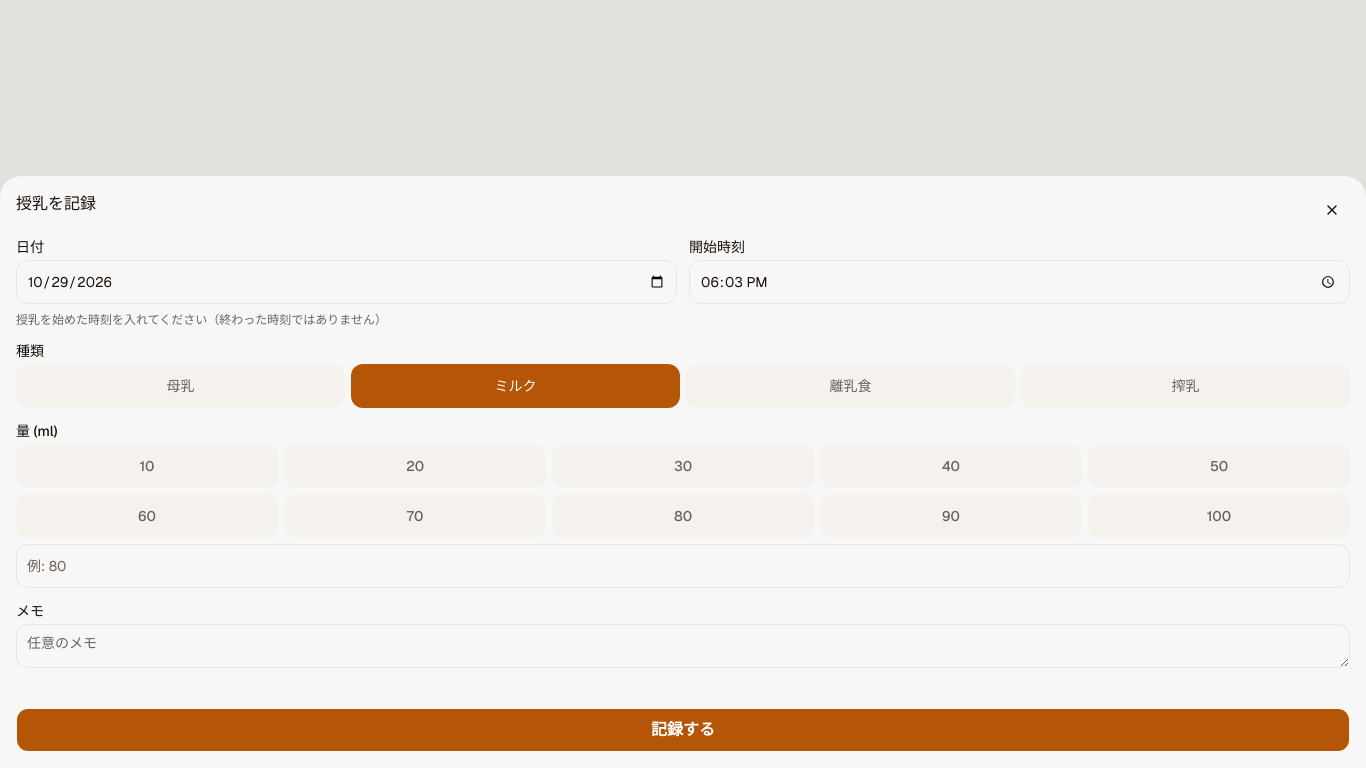
it: 記録シート: 結果不明の控えが在る間は、黙って新しい id で送らぬ（F2） › 授乳タイマーの停止の保存が結果不明のまま残っておれば、授乳の記録シートも確認を出す（v8rc2 TIMER-UNKNOWN-NOT-IN-SHEET-GUARD）
Step 1. Click the button "記録する" → (683, 730), box [16, 708, 1350, 752]
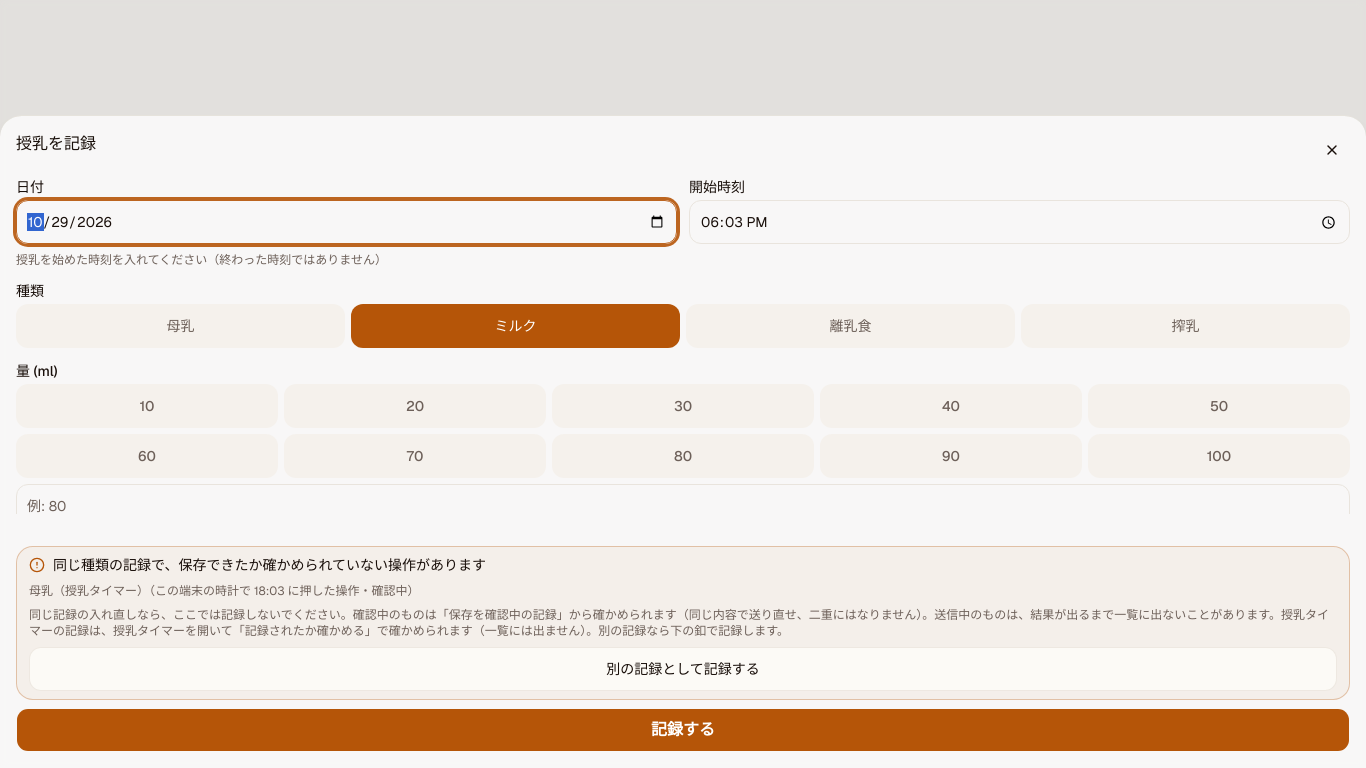
Check: the message shows "母乳（授乳タイマー）", box [29, 583, 149, 599]
Check: the message shows "授乳タイマーを開いて「記録されたか確かめる」", box [29, 607, 1329, 639]
